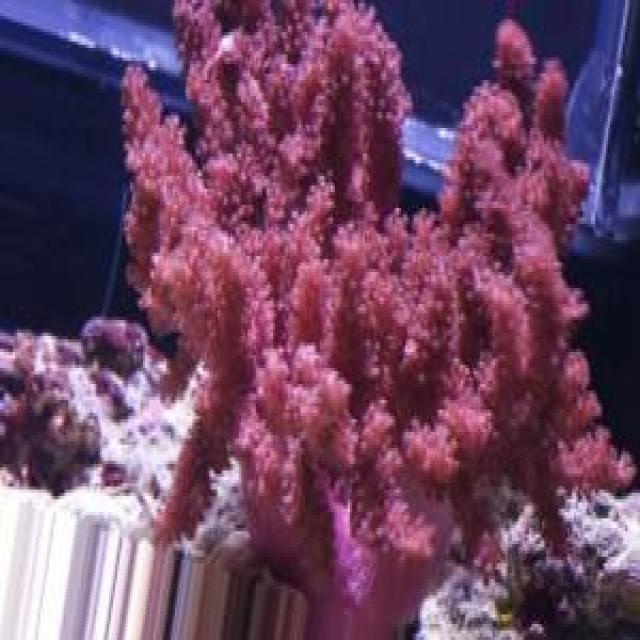healthy coral: (122, 2, 598, 638)
